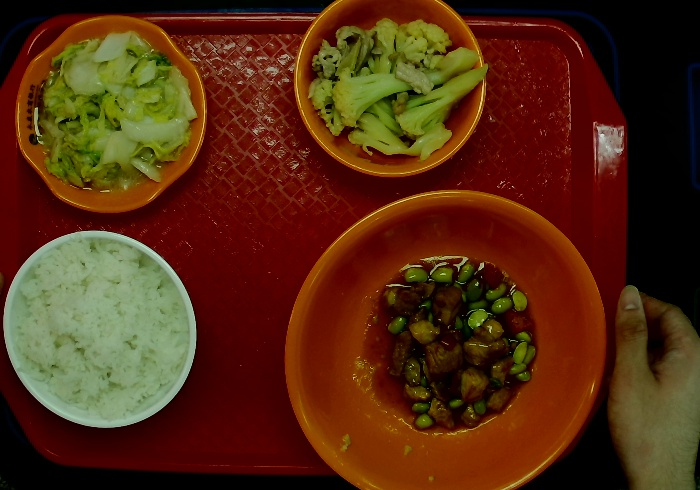YKMZ-Fan_Wan: (1, 225, 203, 439)
YKMZ-Ju_Se_Ao_Bian_Wan: (6, 14, 219, 213)
YKMZ-Ju_Se_Tang_Wan: (274, 181, 610, 490)
YKMZ-Ju_Se_Yuan_Wan: (282, 1, 490, 182)
